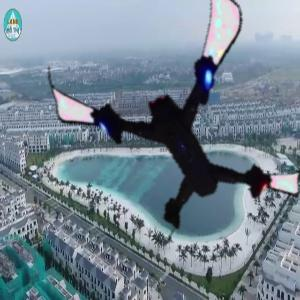drone: (51, 3, 290, 242)
